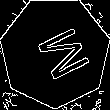M_SW: (23, 20, 87, 84)
